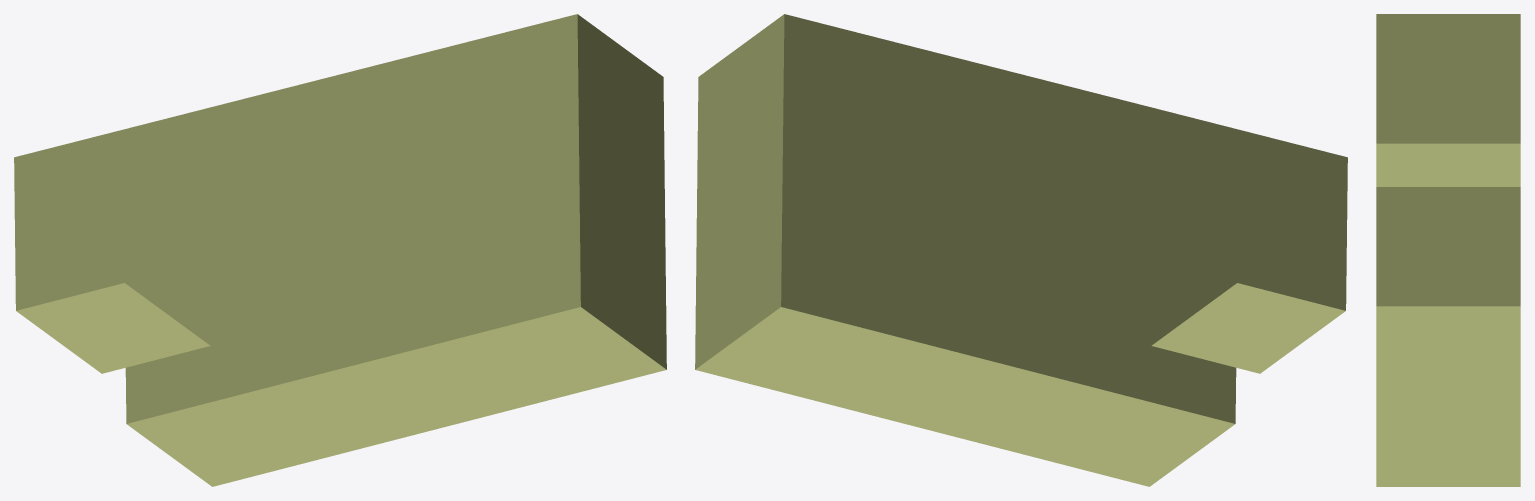
3 views of the same model, side by side, from view 1: azimuth 30°, elevation 25°; view 2: azimuth 150°, elevation 25°; view 3: azimuth 270°, elevation 25° (orthographic). The views are drawn at different scales.
Visible parts, largest first — view 1: 0_0_1_1_3_2_1_1_3; view 2: 0_0_1_1_3_2_1_1_3; view 3: 0_0_1_1_3_2_1_1_3.
Part boxes in pixels (bbox=[...]): 0_0_1_1_3_2_1_1_3: bbox=[14, 14, 666, 486]; 0_0_1_1_3_2_1_1_3: bbox=[695, 14, 1347, 486]; 0_0_1_1_3_2_1_1_3: bbox=[1376, 14, 1520, 486].
Size of the model in its own units: 34.25 by 17.32 by 9.
